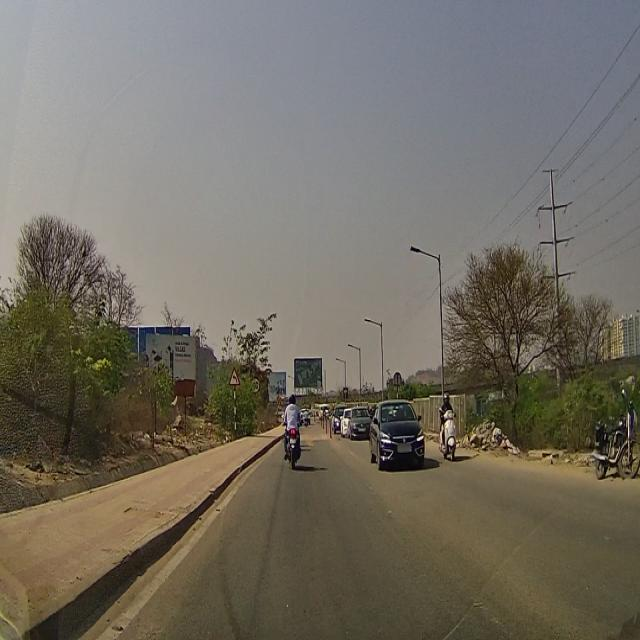left-hand-curve: (228, 364, 240, 388)
